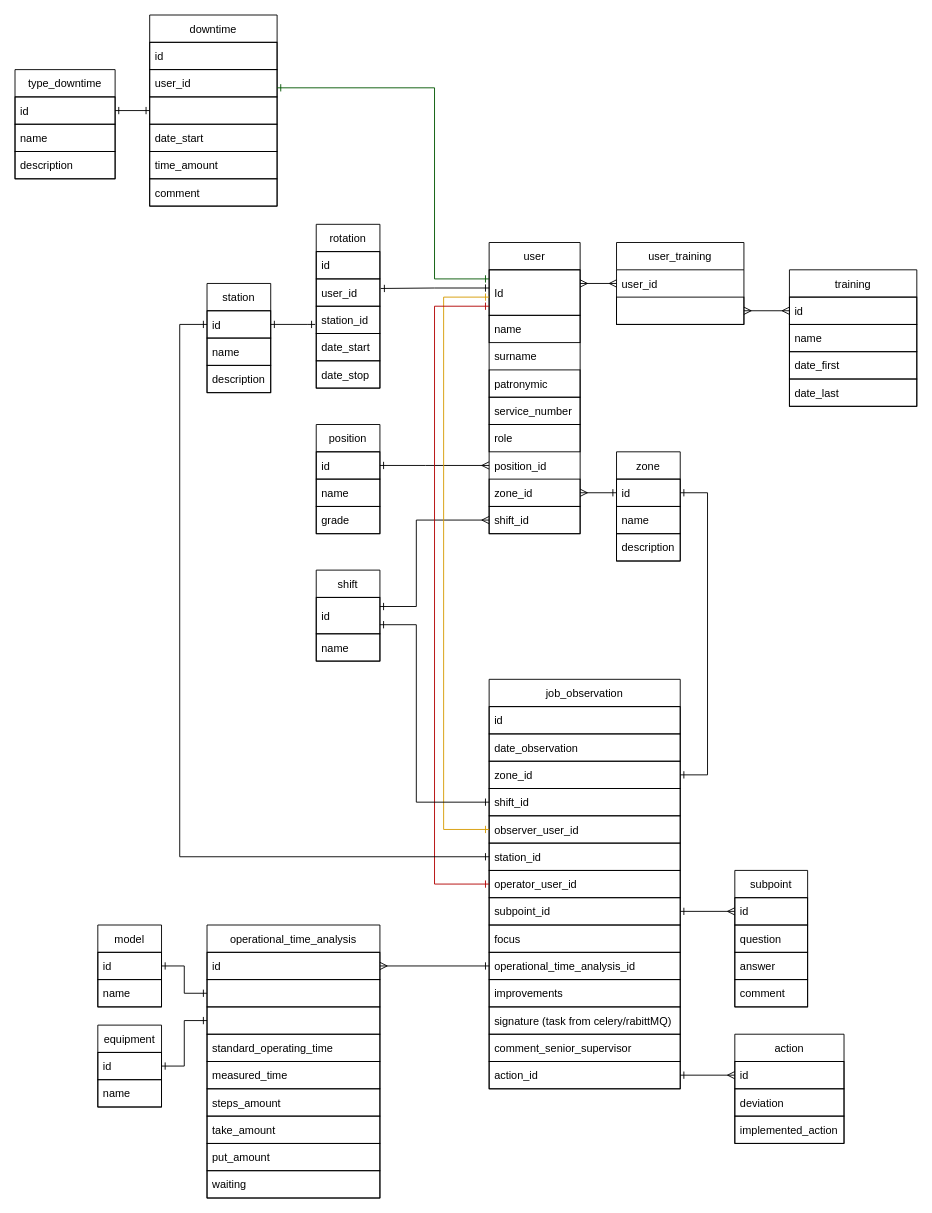
This 932x1213 diagram has some shape labels left out. Each missing label, with the centre of its shape:
equipment_id: the point at 293,1020
model_id: the point at 293,993
training_id: the point at 680,310
type_downtime_id: the point at 213,110
